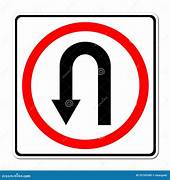back: (21, 19, 150, 149)
